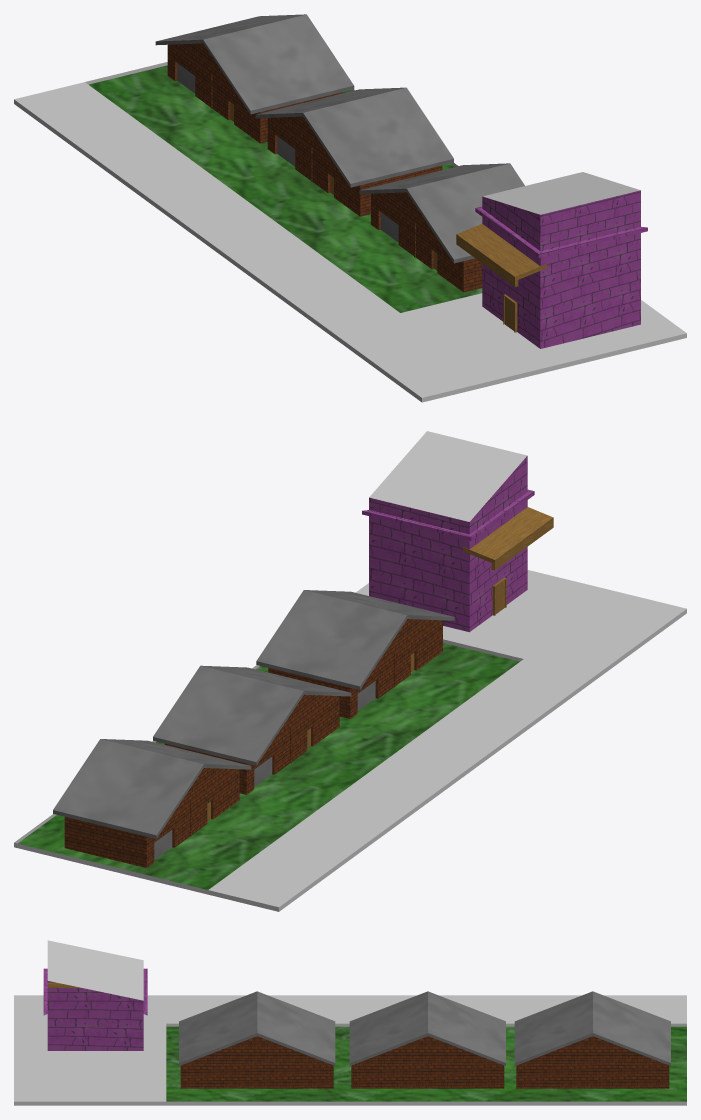
Rendered from Bloco 4.fbx.
The picture shows the model from 3 angles, top to bottom: view 1: azimuth 30°, elevation 25°; view 2: azimuth 150°, elevation 25°; view 3: azimuth 270°, elevation 25°; orthographic projection. The views are drawn at different scales.
Visible parts, largest first — view 1: Bloco 4; view 2: Bloco 4; view 3: Bloco 4.
Boxes of the visible parts, x1,y1,x2,y2 form: Bloco 4: (14, 14, 686, 402); Bloco 4: (14, 431, 686, 911); Bloco 4: (14, 940, 686, 1105).
Size of the model in its own units: 3000 by 1502 by 8000.
